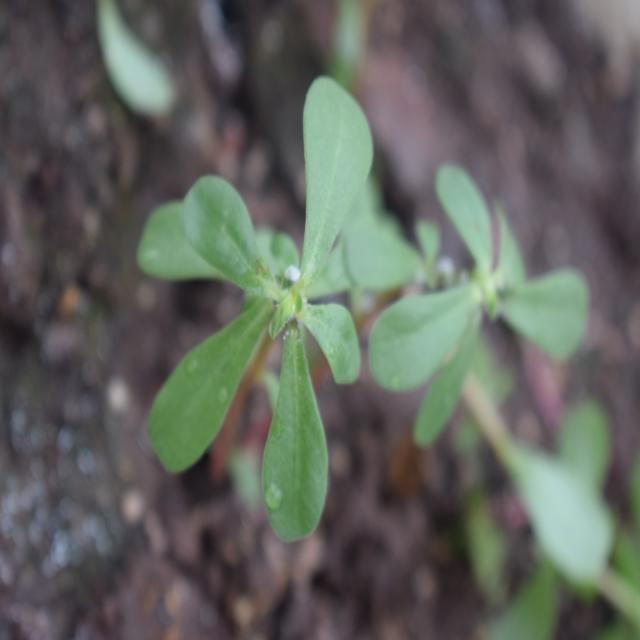purslane: (148, 86, 575, 548)
